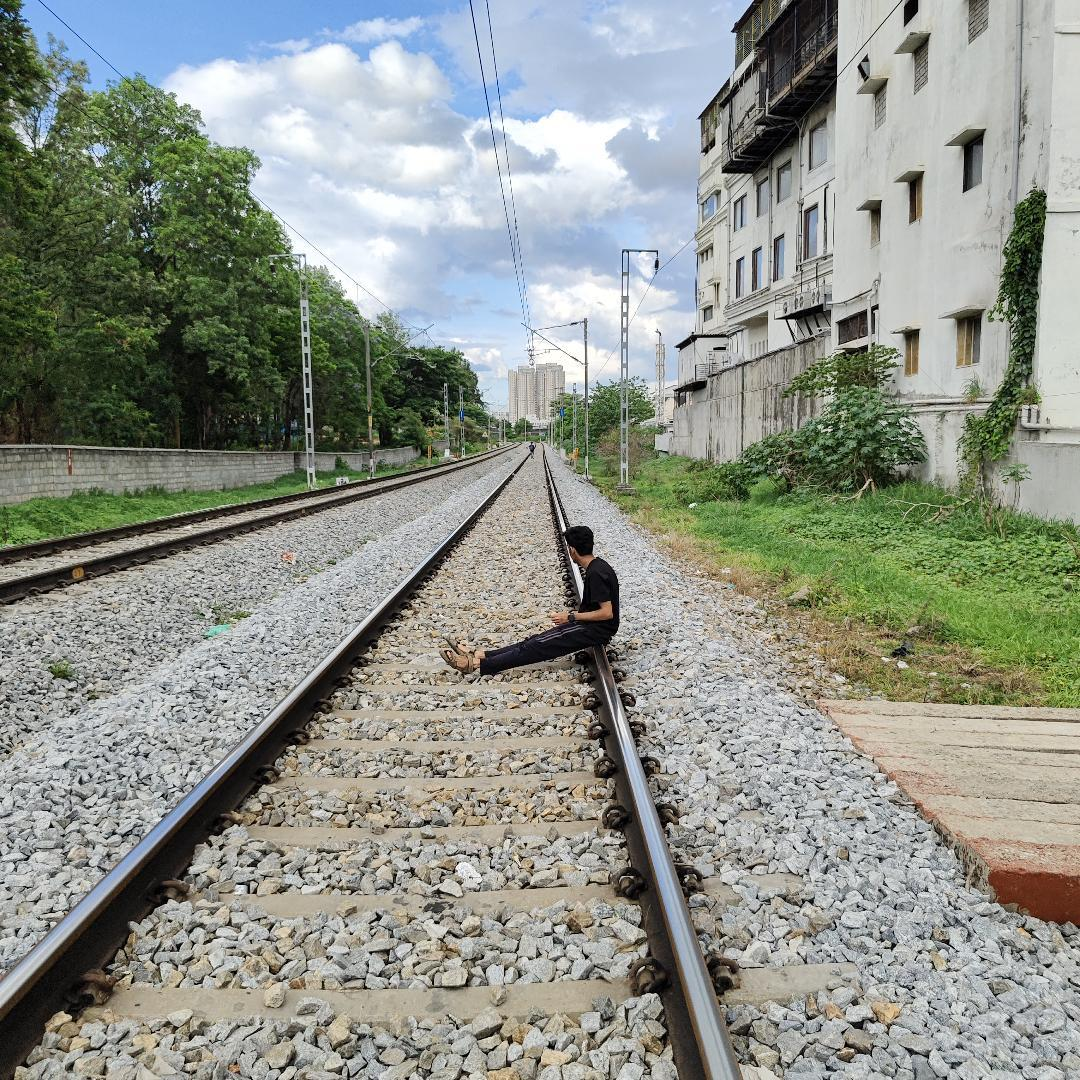sitting: (474, 523, 616, 683)
